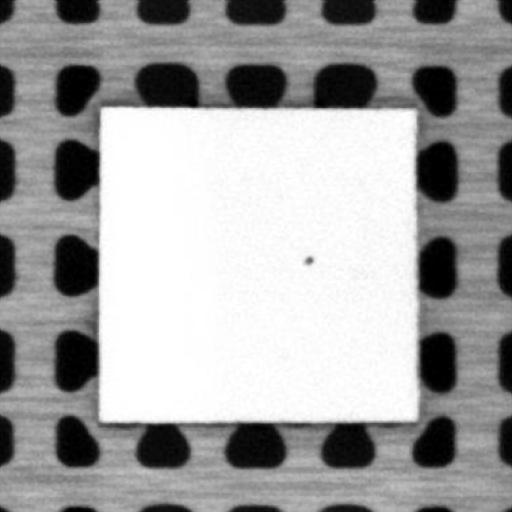DIE_INK: (295, 250, 316, 267)
